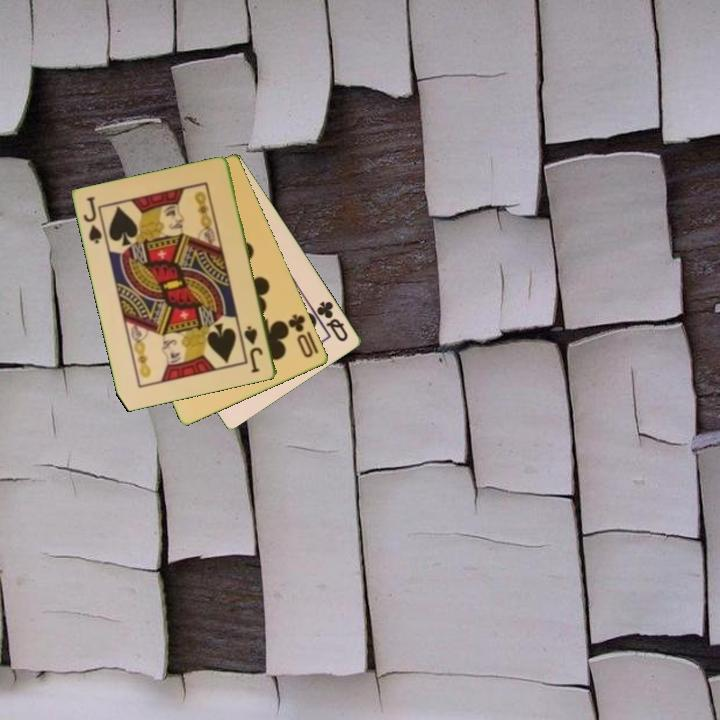10c: (285, 310, 317, 361)
Js: (241, 322, 266, 376), (80, 193, 105, 247)
Qc: (313, 297, 352, 345)
